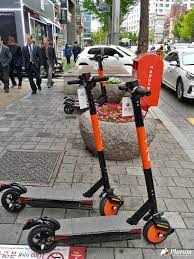kick_board: (2, 72, 121, 210)
kick_body: (61, 216, 134, 240), (28, 187, 87, 206)
kick_handler: (119, 79, 150, 98), (68, 73, 109, 86), (89, 53, 108, 62)
kick_neck: (131, 108, 158, 207), (87, 95, 110, 185)
kick_wheel: (24, 217, 57, 252), (2, 182, 26, 212), (143, 217, 170, 243), (100, 193, 121, 214), (63, 104, 74, 113)
